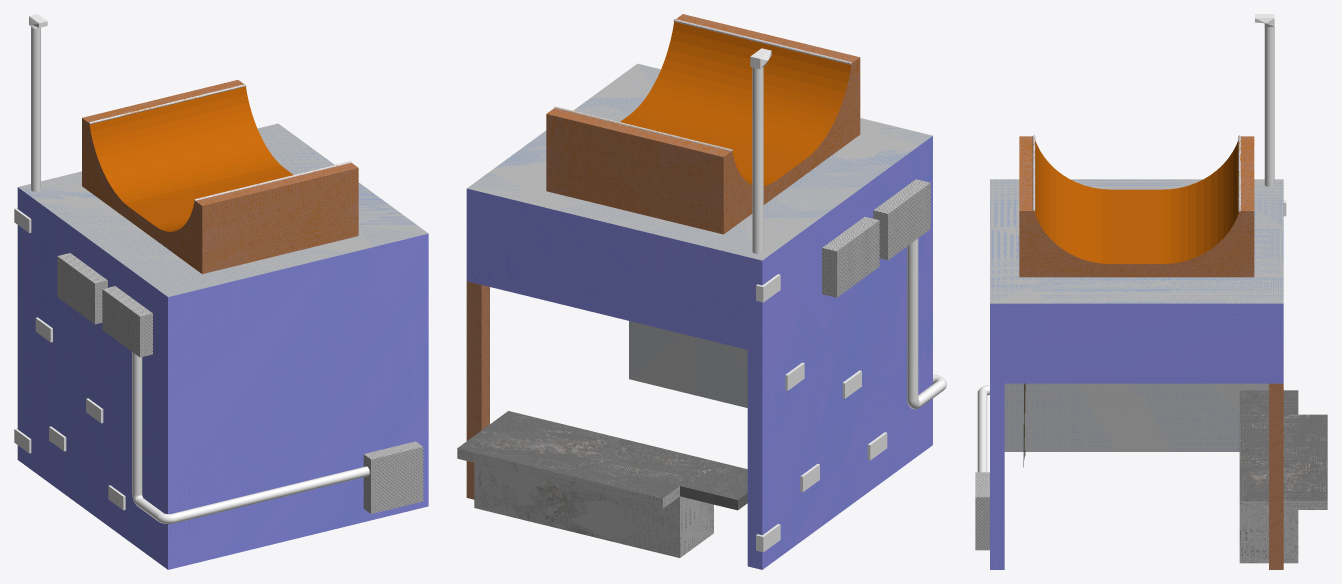
The model's file is hut3.dae.
The picture shows the model from 3 angles, left to right: view 1: azimuth 30°, elevation 25°; view 2: azimuth 150°, elevation 25°; view 3: azimuth 270°, elevation 25°; orthographic projection. The views are drawn at different scales.
Parts seen in each view (by area): view 1: group_0 (×2), group_13 (×2), SketchUp, group_6, group_4, group_5, group_14; view 2: group_0 (×3), group_13 (×3), group_2 (×2), group_1, group_5, group_4, SketchUp, group_3, group_14; view 3: group_0 (×3), group_13 (×2), group_2 (×2), group_1, group_14, group_6, group_3, SketchUp.
Boxes of the visible parts, x1=… form: group_0 (×2): x1=17, y1=123, x2=428, y2=569; group_13 (×2): x1=82, y1=80, x2=358, y2=273; SketchUp: x1=132, y1=352, x2=369, y2=523; group_6: x1=363, y1=441, x2=423, y2=513; group_4: x1=102, y1=286, x2=152, y2=357; group_5: x1=57, y1=253, x2=107, y2=324; group_14: x1=31, y1=27, x2=40, y2=191; group_0 (×3): x1=466, y1=63, x2=932, y2=569; group_13 (×3): x1=546, y1=14, x2=860, y2=234; group_2 (×2): x1=457, y1=411, x2=713, y2=557; group_1: x1=466, y1=281, x2=489, y2=499; group_5: x1=822, y1=216, x2=879, y2=297; group_4: x1=873, y1=179, x2=930, y2=260; SketchUp: x1=907, y1=238, x2=946, y2=409; group_3: x1=680, y1=461, x2=747, y2=510; group_14: x1=752, y1=67, x2=763, y2=253; group_0 (×3): x1=990, y1=179, x2=1283, y2=569; group_13 (×2): x1=1019, y1=136, x2=1254, y2=277; group_2 (×2): x1=1239, y1=414, x2=1327, y2=563; group_1: x1=1269, y1=383, x2=1283, y2=569; group_14: x1=1264, y1=27, x2=1274, y2=186; group_6: x1=975, y1=472, x2=989, y2=550; group_3: x1=1239, y1=390, x2=1298, y2=414; SketchUp: x1=977, y1=385, x2=989, y2=472.
Size of the model in its own units: 126 by 144 by 196.
17 materials, 5 textured.
